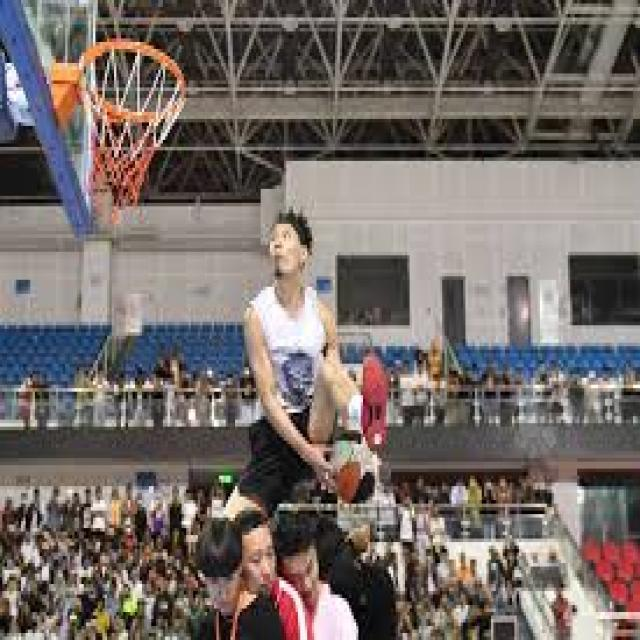rim: (331, 434, 382, 507)
